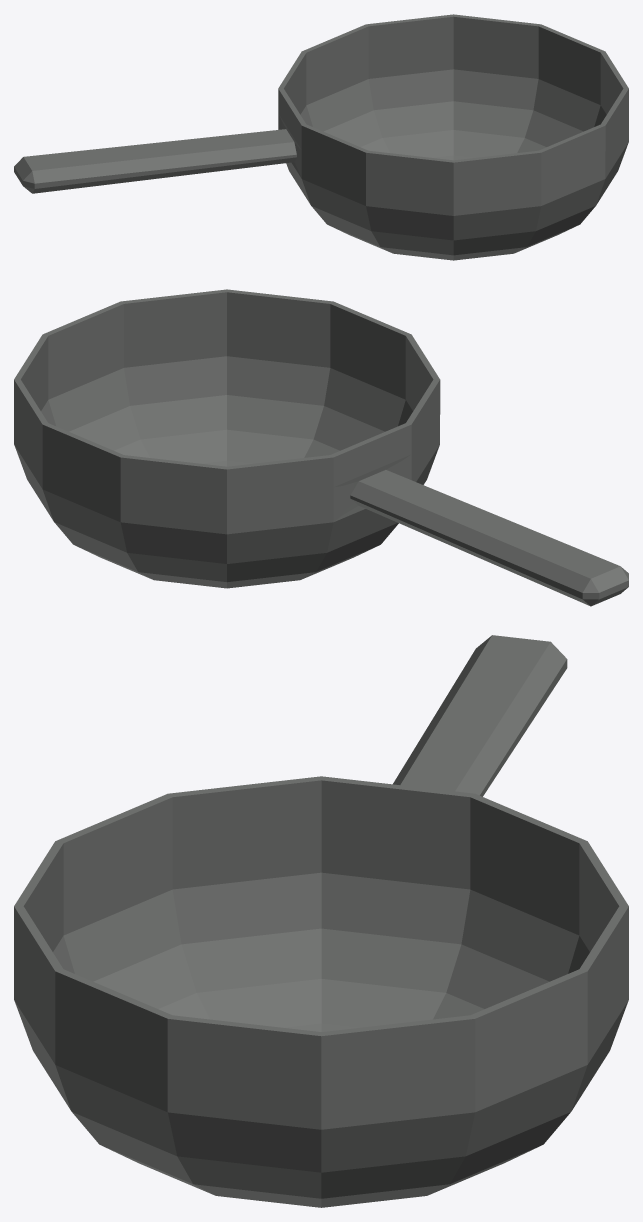
The model's file is Cocina_Sarten_16.fbx.
3 renders of one model, top to bottom at view 1: azimuth 30°, elevation 25°; view 2: azimuth 150°, elevation 25°; view 3: azimuth 270°, elevation 25°, orthographic. The views are drawn at different scales.
Visible parts, largest first — view 1: sarten hondo; view 2: sarten hondo; view 3: sarten hondo.
Boxes of the visible parts, box(x1,y1,x2,y2) form: sarten hondo: box(14, 14, 628, 260); sarten hondo: box(14, 289, 628, 606); sarten hondo: box(14, 635, 628, 1207).
Bounding box in the file's own units: 63.56 × 14.89 × 36.25.
Materials: 1 (1 with a texture image).
